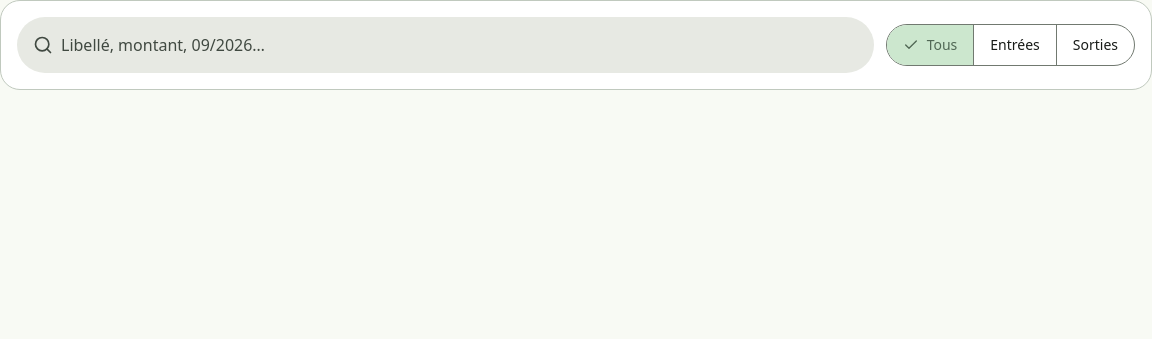
Test: MovementSearch › par montant, par mois (09/2026) et par sens
Type "13,50" into the search field named "Rechercher un mouvement" at (465, 45), box [61,17,870,73]
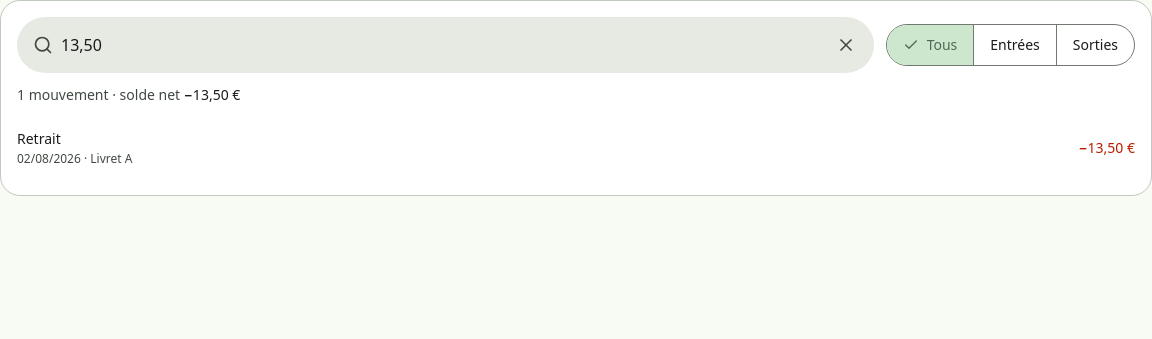
expect the number of list items is 1: met, box [17,117,1135,179]
expect the list item reads "Retrait 02/08/2026 · Livret A −13,50 €": met, box [17,117,1135,179]
Replace the text in the search field named "Rechercher un mouvement" with "09/2026" at (437, 45), box [61,17,814,73]
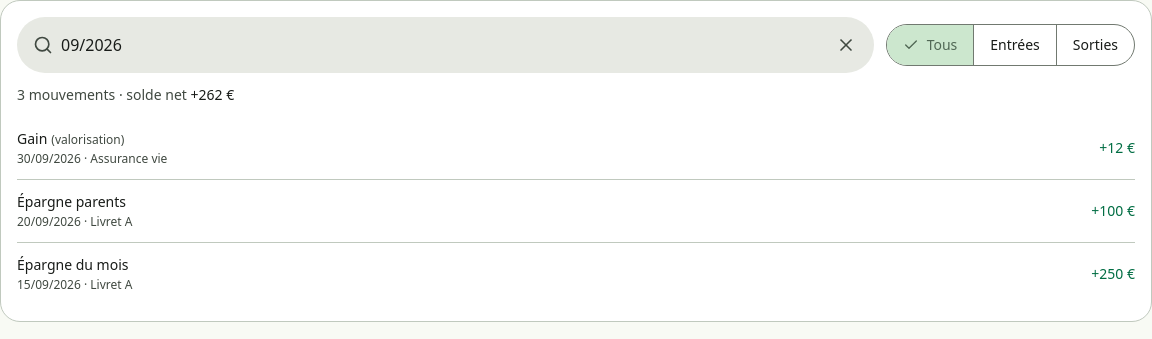
expect the number of list items is 3: met, box [17,117,1135,180]; [17,180,1135,243]; [17,243,1135,305]
expect the list item "Gain(valorisation) 30/09/2026 · Assurance vie +12 €" is shown: met, box [17,117,1135,180]
Click the button "Sorties" at (1095, 45), box [1056,25,1134,65]
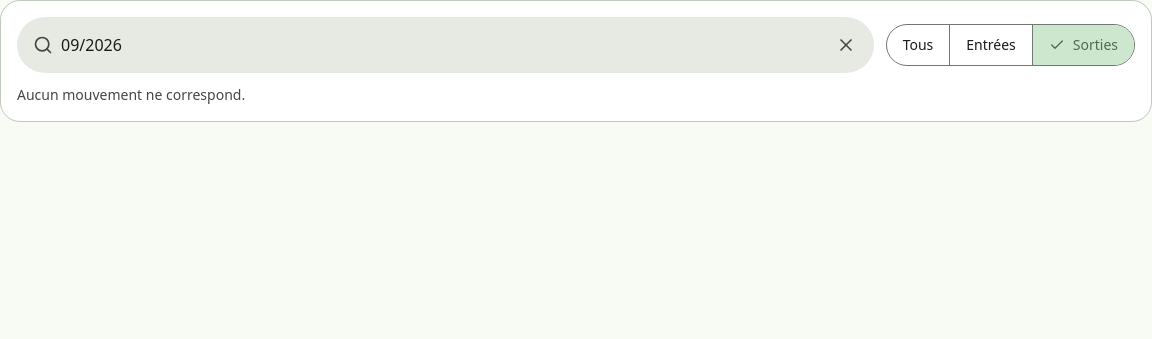
expect the text "Aucun mouvement ne correspond." is shown: met, box [17,85,245,104]
Click the button "Entrées" at (991, 45), box [949,25,1032,65]
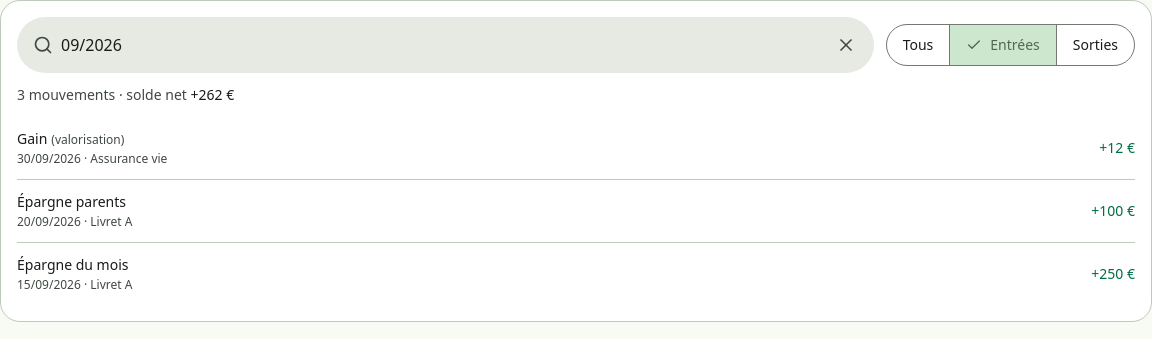
expect the number of list items is 3: met, box [17,117,1135,180]; [17,180,1135,243]; [17,243,1135,305]
